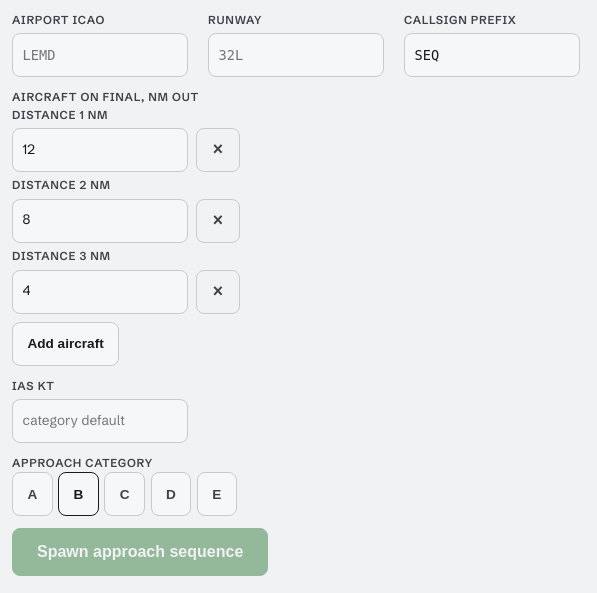
Scenario: ApproachSequenceForm › keeps the last distance row — a sequence of zero aircraft is not a sequence
Click the button named "remove distance 3" at (218, 292), box 196,270 -> 240,314
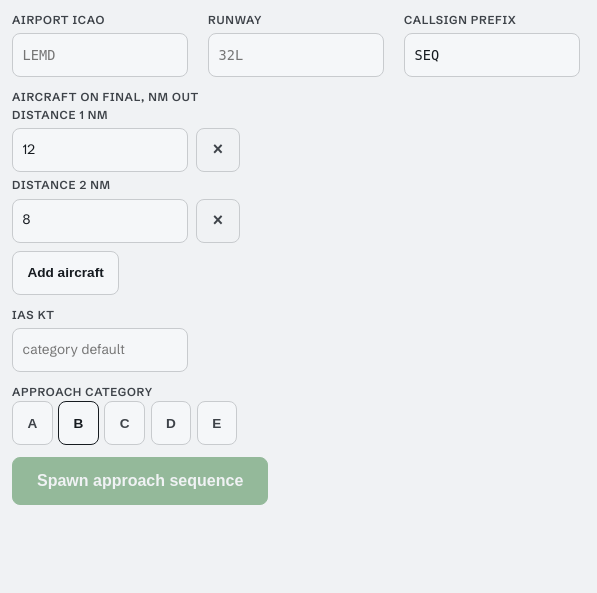
Click the button named "remove distance 2" at (218, 221), box 196,199 -> 240,243
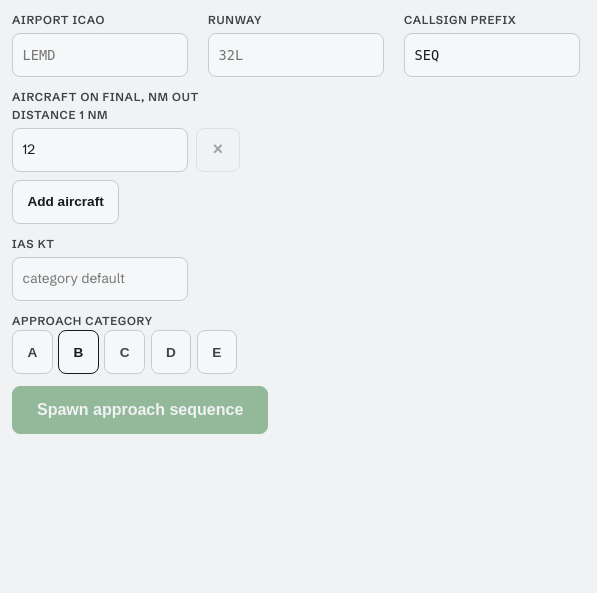
Check: the button named "remove distance 1" is disabled, box 196,128 -> 240,172
